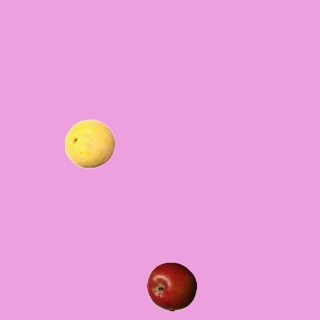Apple Braeburn: (146, 261, 196, 311)
Cantaloupe 1: (64, 118, 114, 168)
